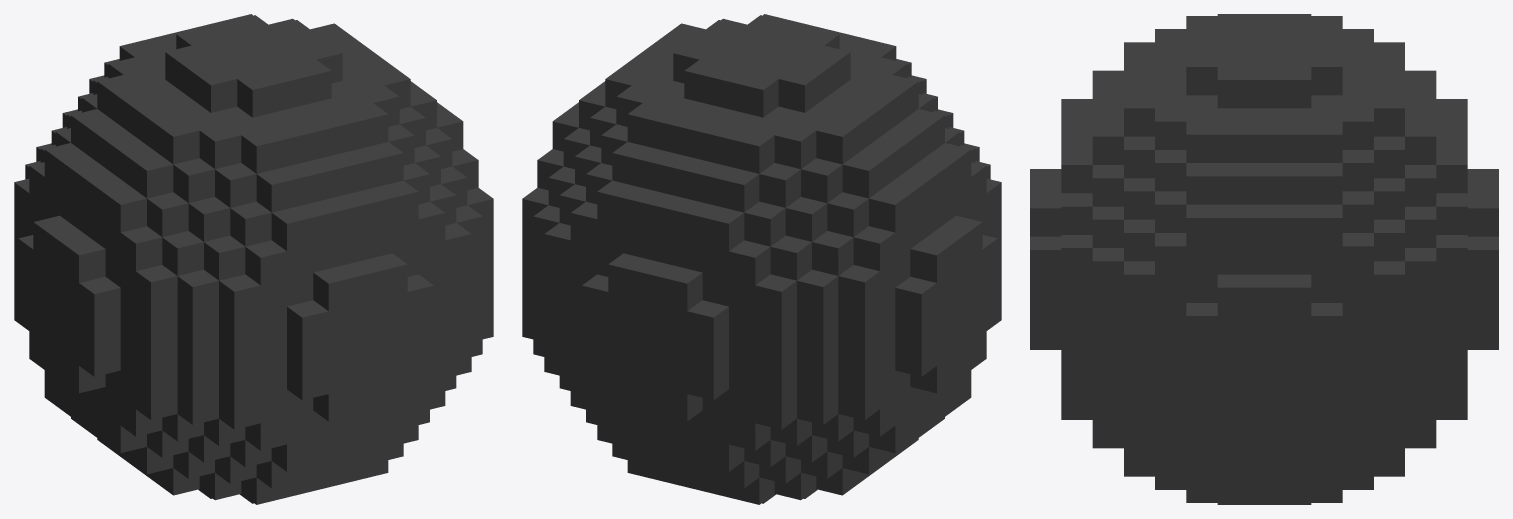
Rendered from Ball.obj.
The picture shows the model from 3 angles, left to right: view 1: azimuth 30°, elevation 25°; view 2: azimuth 150°, elevation 25°; view 3: azimuth 270°, elevation 25°; orthographic projection. The views are drawn at different scales.
Visible parts, largest first — view 1: Ball; view 2: Ball; view 3: Ball.
Boxes of the visible parts, left/top/right/bottom form: Ball: left=14, top=14, right=493, bottom=504; Ball: left=522, top=14, right=1001, bottom=504; Ball: left=1030, top=14, right=1498, bottom=504.
Size of the model in its own units: 15 by 15 by 15.
1 material, 1 textured.
